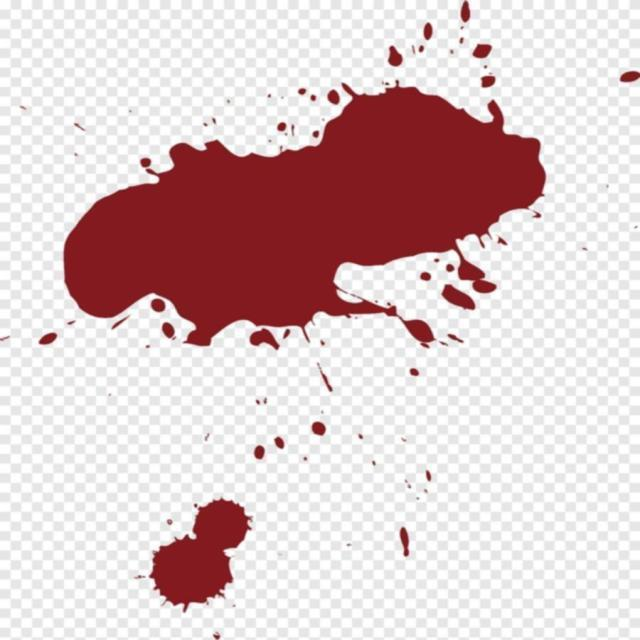flood: (64, 72, 552, 338), (134, 494, 256, 610)
